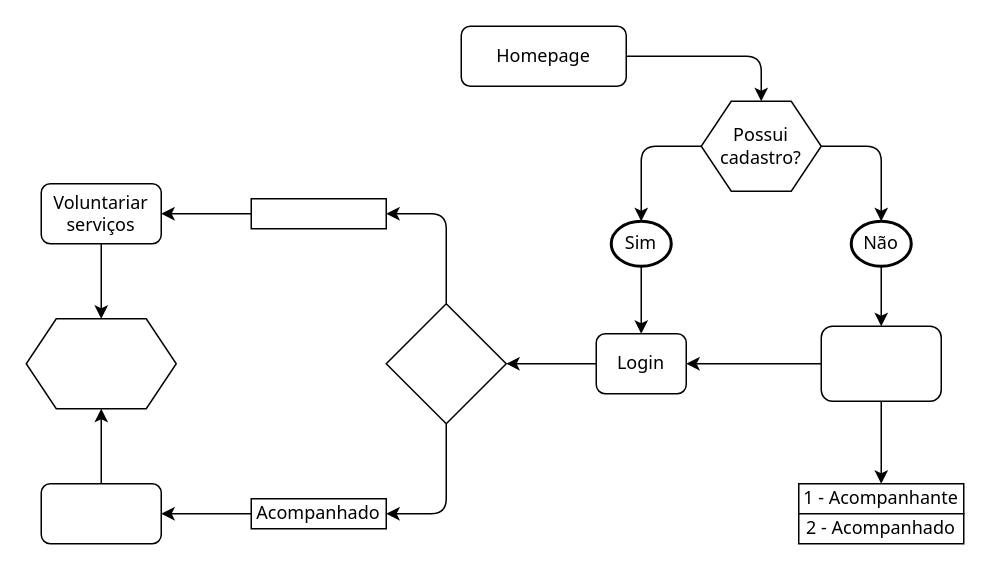
Some shapes in this 990 by 570 pixel diagram are drawn without their labels. The shapes that lost their labels are listed below. From the top down, each one's centre as x and y in pixels, then its label:
the point at 318,213: Acompanhante
the point at 100,363: Encontro conforme data, hora e local agendado
the point at 445,363: Agenda interativa
the point at 880,363: Criar cadastro
the point at 100,513: Solicitar serviços
